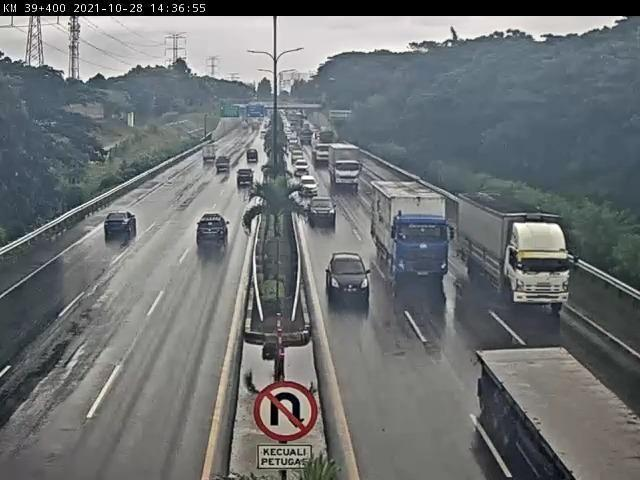car: (323, 242, 371, 300), (181, 222, 230, 265), (89, 215, 131, 252), (300, 192, 342, 227), (239, 170, 253, 194), (245, 148, 263, 166), (302, 173, 318, 191), (295, 158, 308, 172)
truck: (477, 210, 566, 305), (370, 181, 445, 275), (332, 147, 366, 188)
